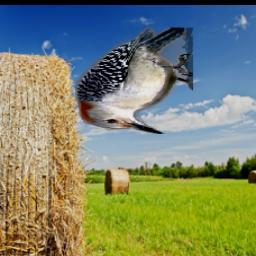Woodpecker: (76, 28, 194, 134)
